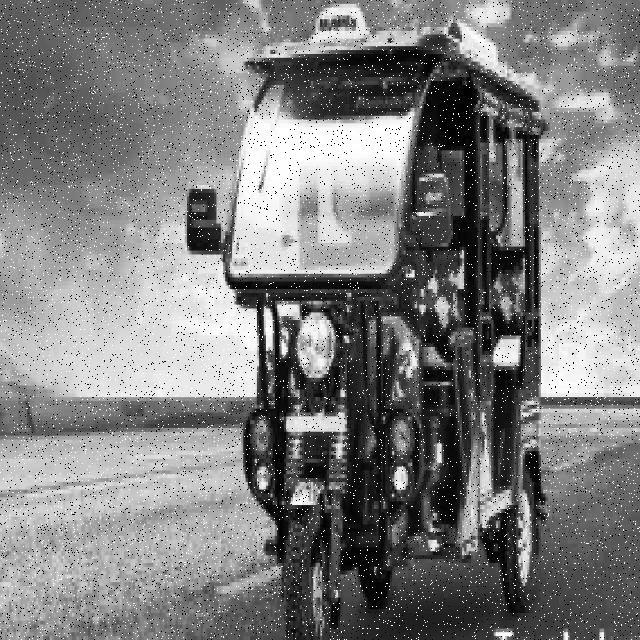Toto: (198, 19, 568, 639)
